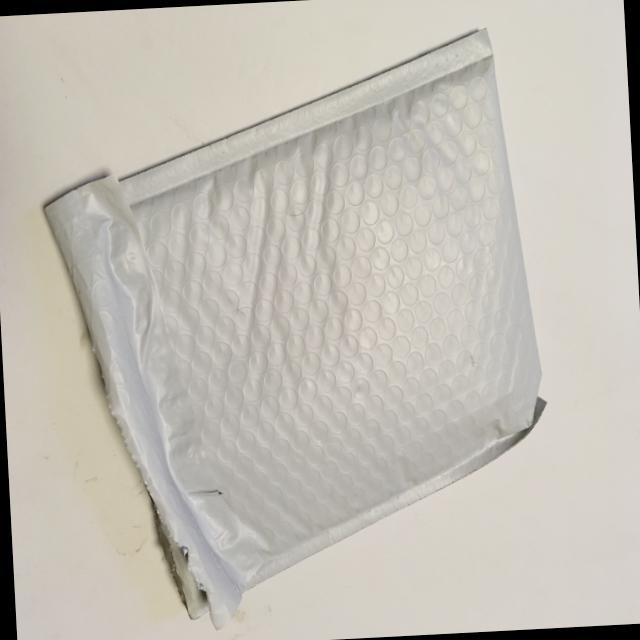Plastic: (21, 6, 574, 640)
